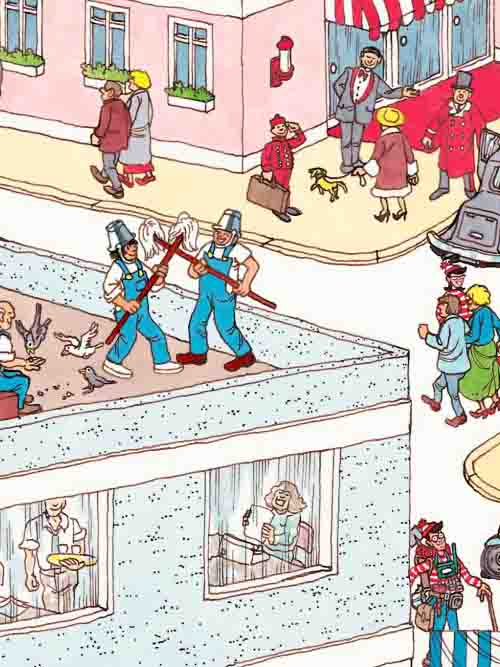waldo: (418, 519, 448, 551)
